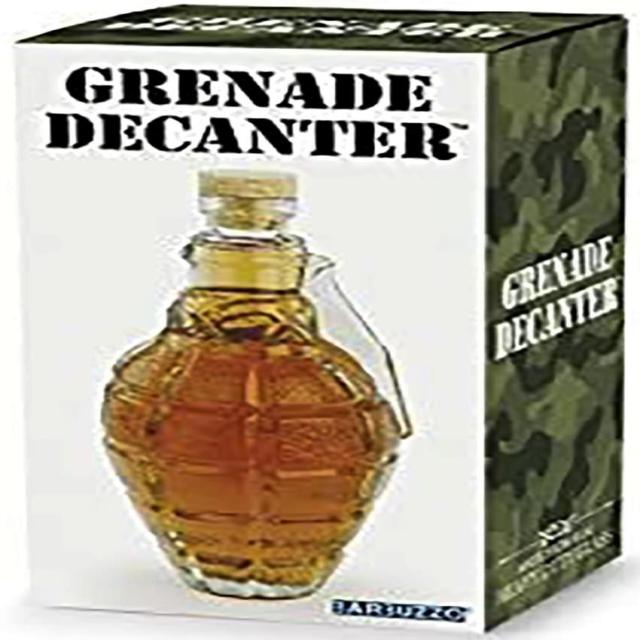grenade: (101, 237, 415, 601)
